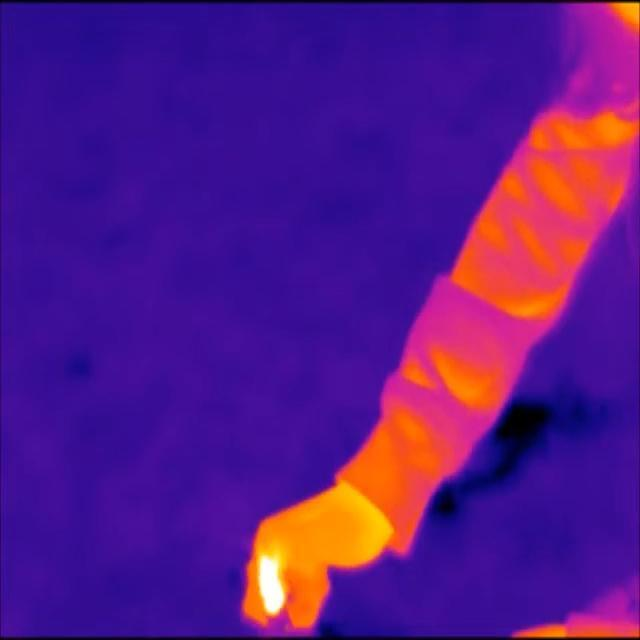fire: (255, 548, 290, 625)
